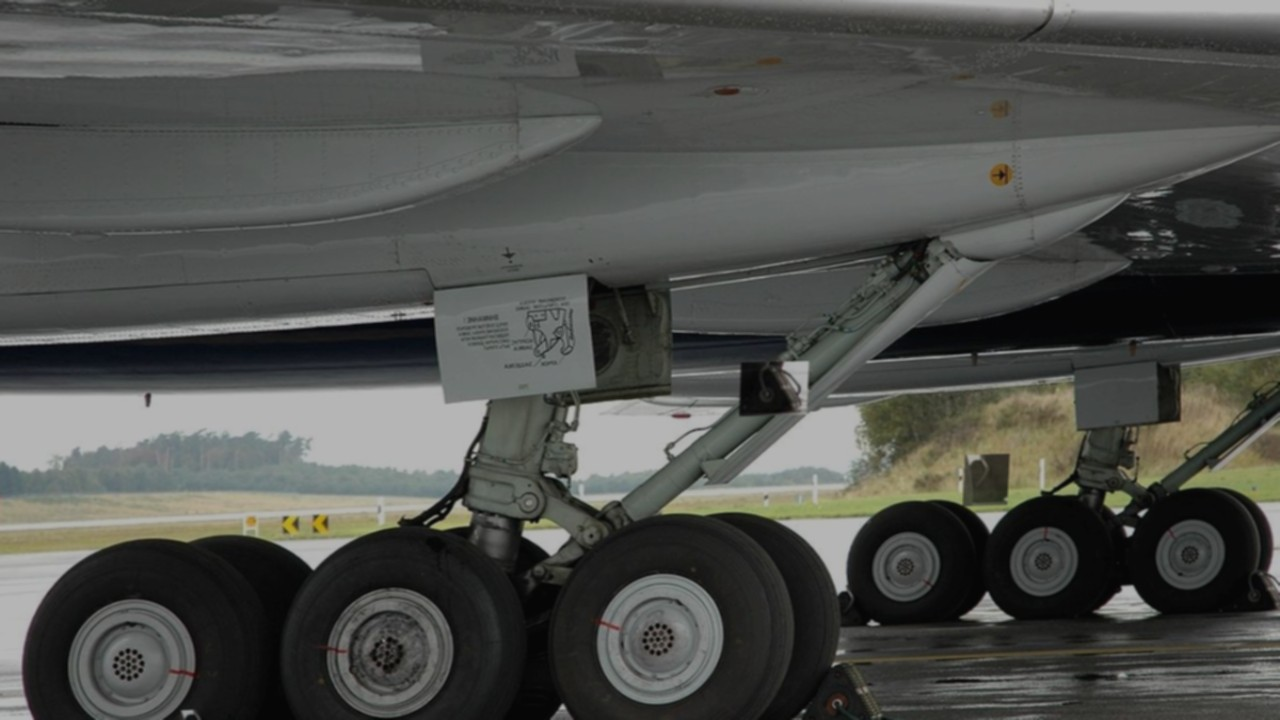chock: (796, 657, 893, 720), (739, 361, 809, 417), (963, 454, 1010, 507), (1230, 567, 1280, 615), (832, 586, 871, 630)
wheel: (543, 508, 805, 720), (277, 523, 530, 720), (18, 534, 262, 720), (1123, 487, 1262, 619), (845, 494, 980, 627), (983, 496, 1120, 626)
